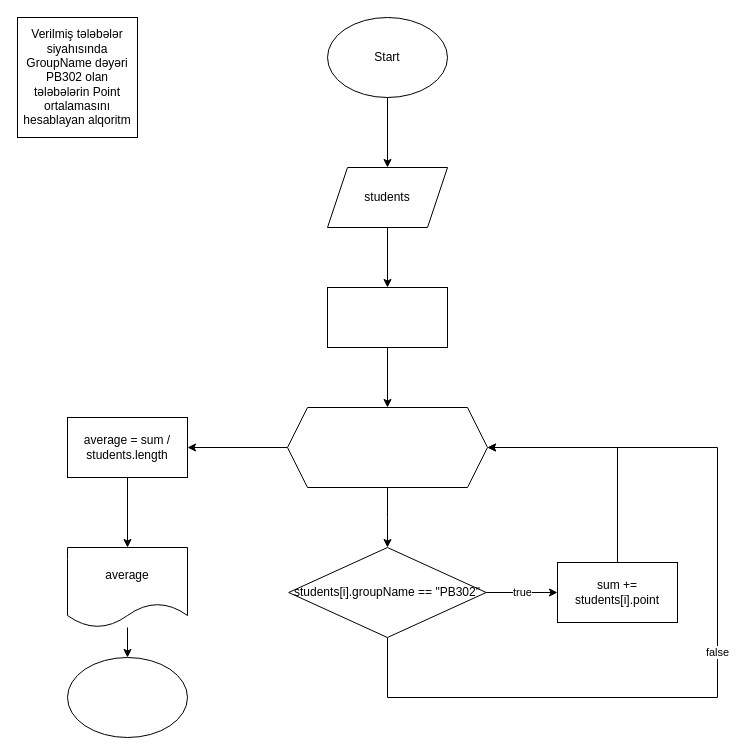
Image size: 746x755. Some labels were removed from this diagram. The shapes that lost their labels are listed below. From the top down, each one's centre as x and y in pixels, then its label:
point 387,317: sum = 0
point 387,447: i = 0; i < students.length; i++
point 127,697: End
